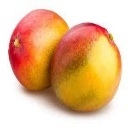mango: (50, 23, 121, 114)
